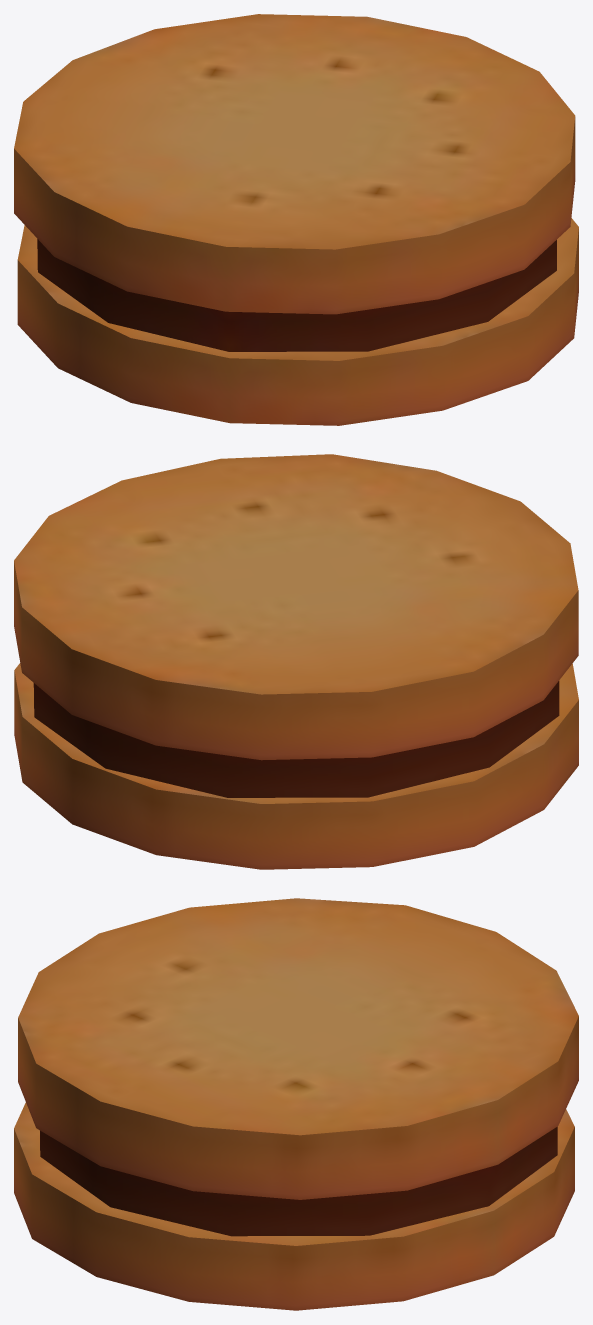
The model's file is antbase new.fbx.
The picture shows the model from 3 angles, top to bottom: view 1: azimuth 30°, elevation 25°; view 2: azimuth 150°, elevation 25°; view 3: azimuth 270°, elevation 25°; orthographic projection.
Visible parts, largest first — view 1: antbase_a_01; view 2: antbase_a_01; view 3: antbase_a_01.
Part boxes in pixels (bbox=[...]): antbase_a_01: bbox=[14, 14, 578, 425]; antbase_a_01: bbox=[14, 454, 578, 869]; antbase_a_01: bbox=[14, 898, 578, 1310].
Bounding box in the file's own units: 851 × 291 × 854.
